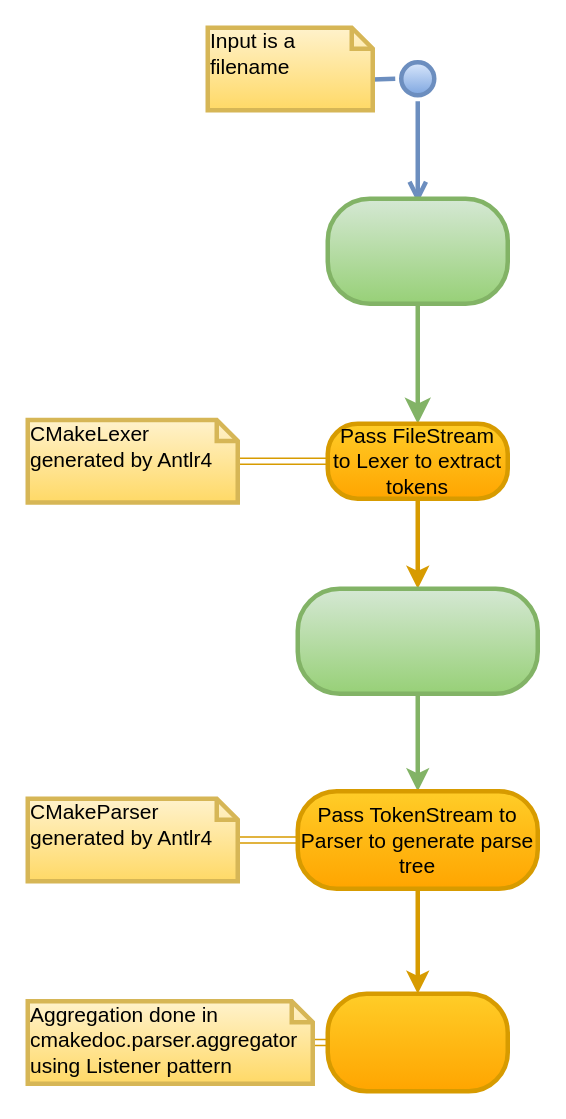
This 566x1119 diagram has some shape labels left out. Each missing label, with the centre of its shape:
CMakeLexer is wrapped in a CommonTokenStream: [417,640]
File is wrapped in a FileStream: [417,250]
Walk parse tree, aggregating all documentation: [417,1042]
